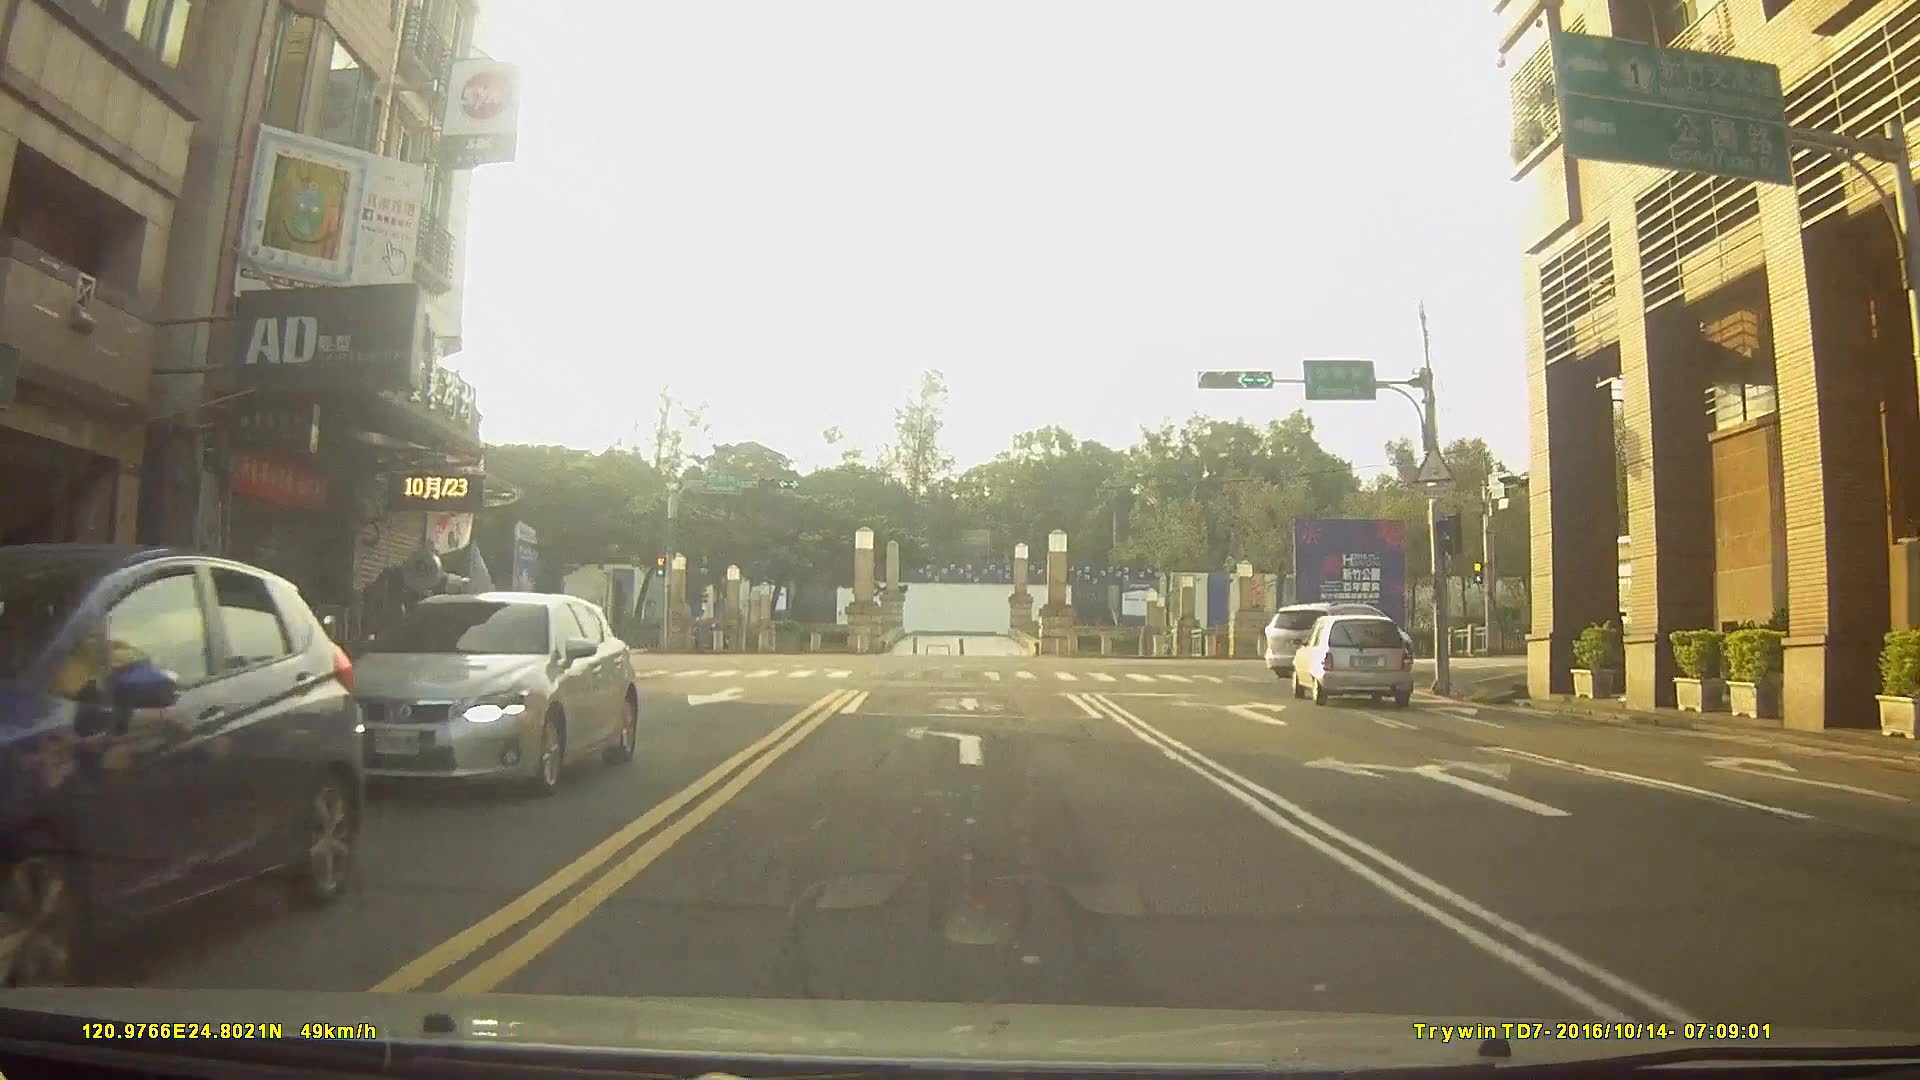vehicle: (0, 538, 365, 1007), (339, 588, 637, 796), (1265, 600, 1412, 680), (1292, 613, 1415, 705)
